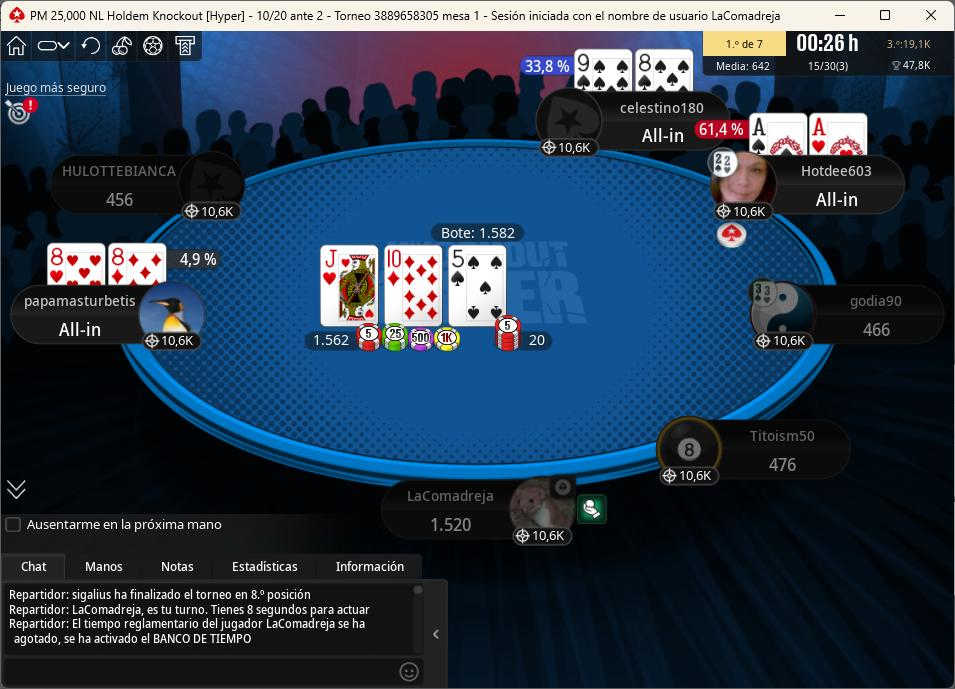Player: (745, 281, 950, 350), (705, 154, 911, 220), (650, 420, 852, 486), (13, 282, 211, 349), (541, 90, 737, 155), (49, 152, 248, 215)
PlayerChips: (634, 125, 698, 148), (811, 189, 869, 211), (53, 320, 112, 341), (764, 454, 809, 476), (859, 322, 902, 343), (101, 193, 146, 211)
Pot: (428, 225, 529, 244)
PrincipalPlayer: (382, 480, 589, 552)
PrincipalPlayerChips: (422, 518, 484, 537)
ShowedCards: (318, 245, 513, 330)
ShowedCards1: (318, 242, 381, 327)
ShowedCards2: (384, 242, 444, 330)
ShowedCards3: (447, 242, 510, 329)
SmallBigBlind: (246, 3, 335, 29)
TablePot: (298, 313, 569, 363)
